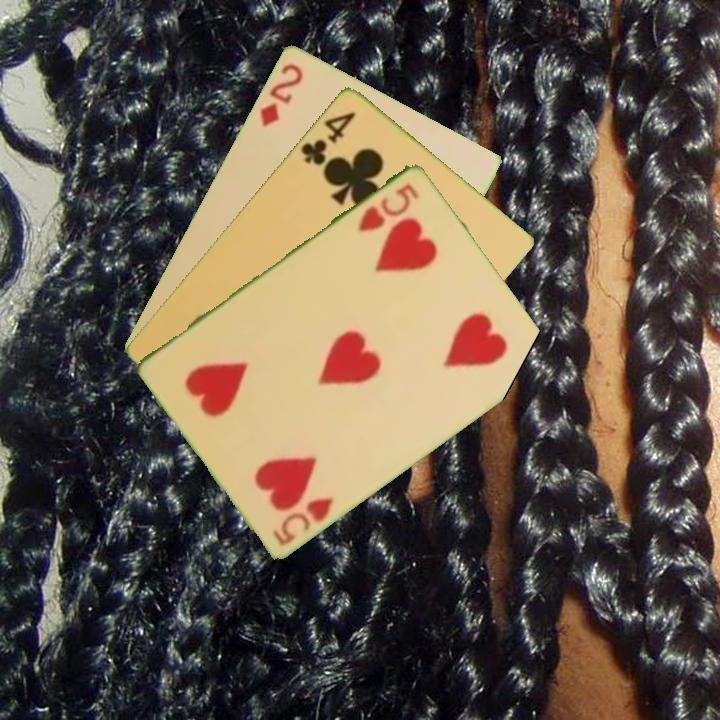2d: (256, 59, 306, 129)
4c: (297, 107, 359, 168)
5h: (354, 179, 423, 234), (269, 493, 338, 548)
